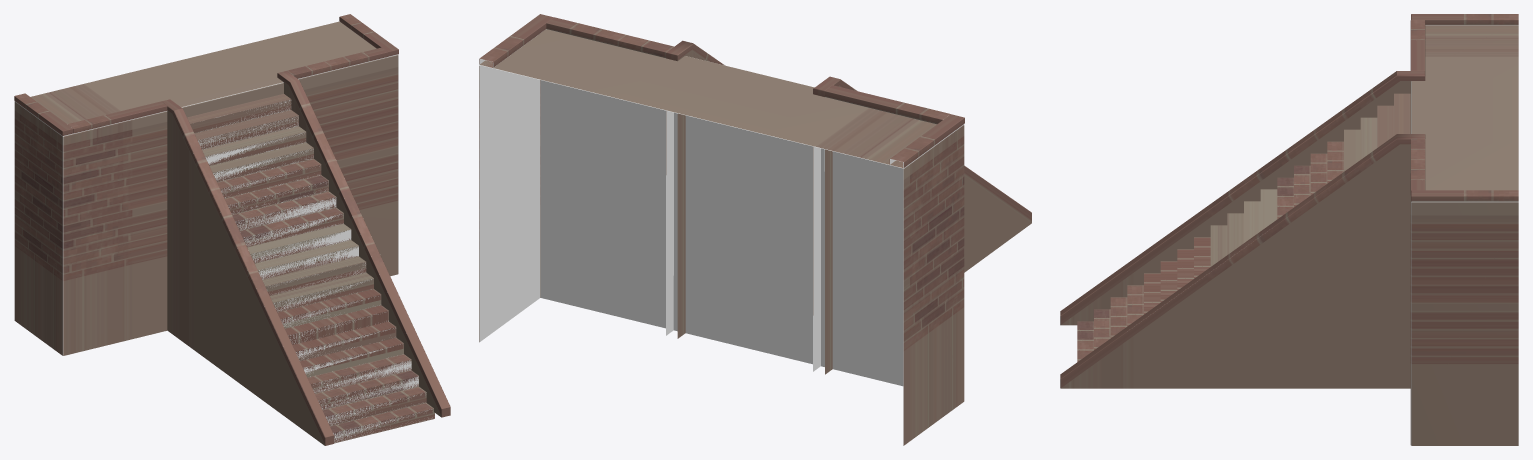
File: objects_un_t05buildporch01.gltf
3 views of the same model, side by side, from view 1: azimuth 30°, elevation 25°; view 2: azimuth 150°, elevation 25°; view 3: azimuth 270°, elevation 25° (orthographic). The views are drawn at different scales.
Parts seen in each view (by area): view 1: um_objects_un_t05buildporch01_model_lod0Shape:objects_un_t05 (×3); view 2: um_objects_un_t05buildporch01_model_lod0Shape:objects_un_t05 (×3); view 3: um_objects_un_t05buildporch01_model_lod0Shape:objects_un_t05 (×3).
Part boxes in pixels (bbox=[...]): um_objects_un_t05buildporch01_model_lod0Shape:objects_un_t05 (×3): bbox=[14, 14, 450, 445]; um_objects_un_t05buildporch01_model_lod0Shape:objects_un_t05 (×3): bbox=[479, 14, 1031, 445]; um_objects_un_t05buildporch01_model_lod0Shape:objects_un_t05 (×3): bbox=[1060, 14, 1518, 445].
Size of what is drawn, in the model's own units: 8.01 by 5.27 by 8.5.
Materials: 3 (2 with a texture image).
